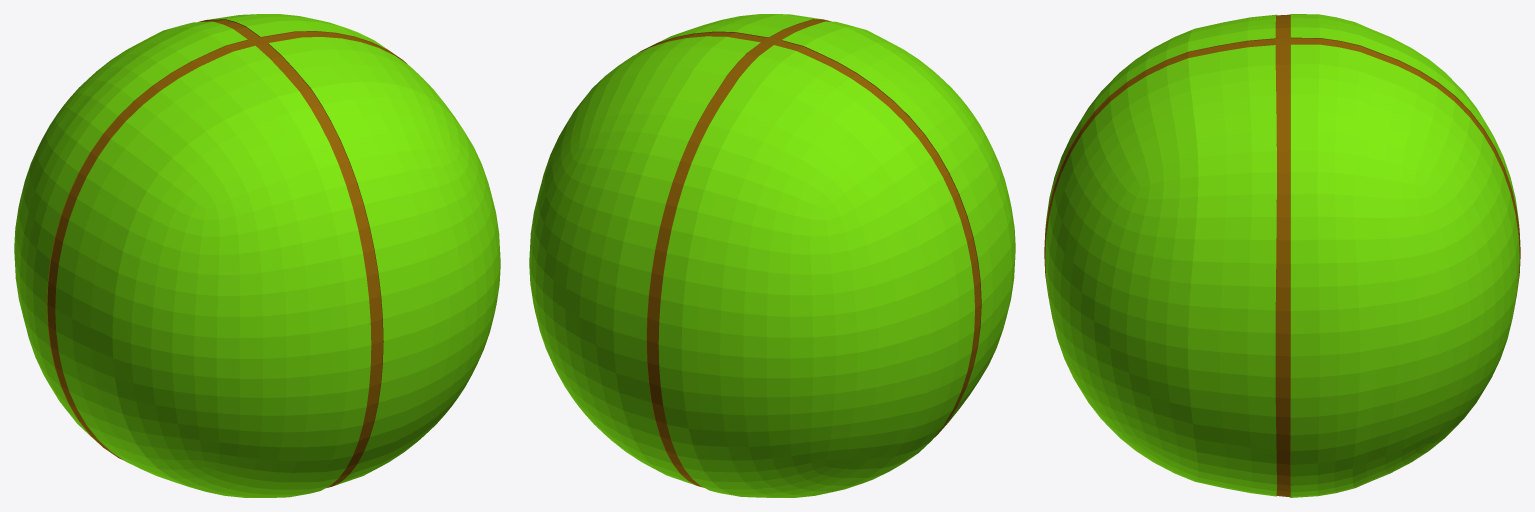
The model's file is globeBig (1).fbx.
The picture shows the model from 3 angles, left to right: view 1: azimuth 30°, elevation 25°; view 2: azimuth 150°, elevation 25°; view 3: azimuth 270°, elevation 25°; orthographic projection.
Visible parts, largest first — view 1: Cube; view 2: Cube; view 3: Cube.
Part boxes in pixels (x1,y1,x2,y2): Cube: (14, 14, 500, 497); Cube: (529, 14, 1015, 497); Cube: (1044, 14, 1520, 497).
Bounding box in the file's own units: 16.62 × 16.62 × 16.62.
